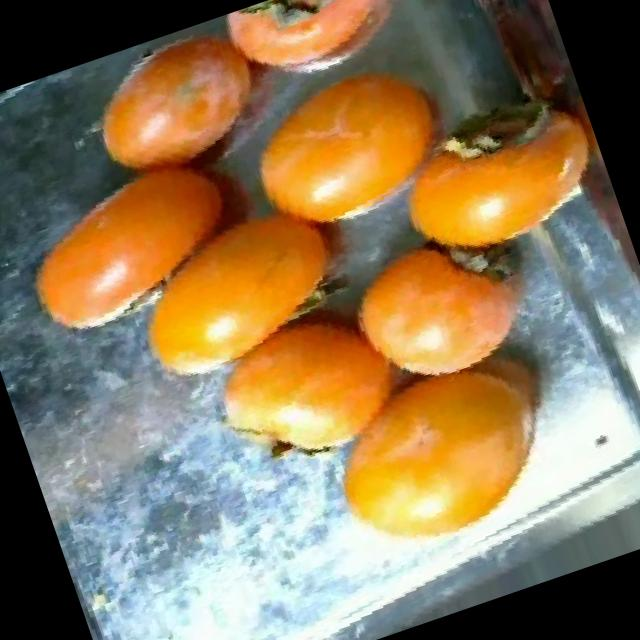Fruit: (56, 3, 303, 210), (0, 151, 222, 368), (368, 95, 602, 298)
